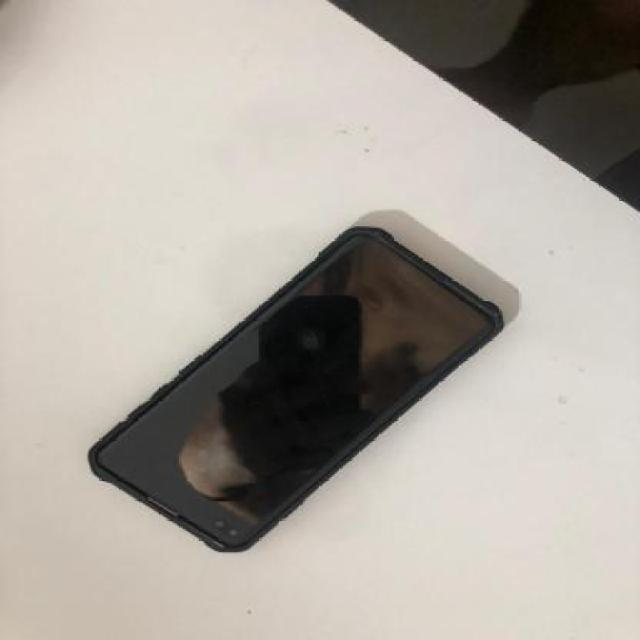mobile: (88, 226, 503, 562)
